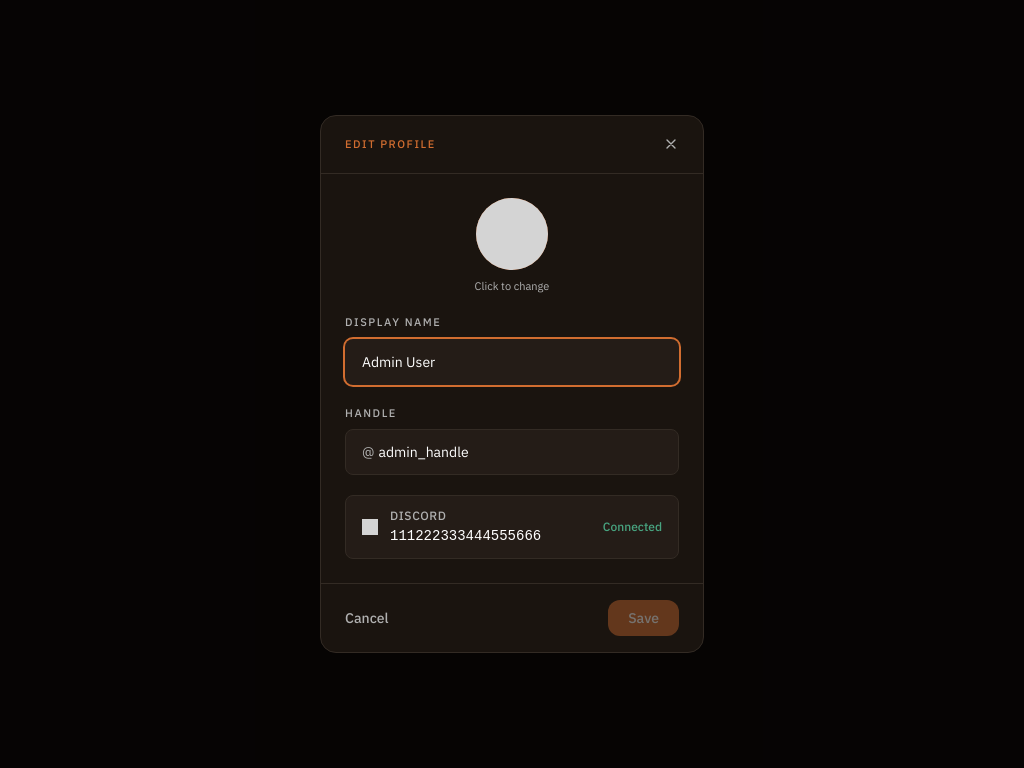
Test: EditProfileModal › Form validation › enables Save when name changes
The image size is (1024, 768).
Replace the text in the field showing "Admin User" below "Display Name" with "New Name" at (512, 362), box [345,338,679,384]
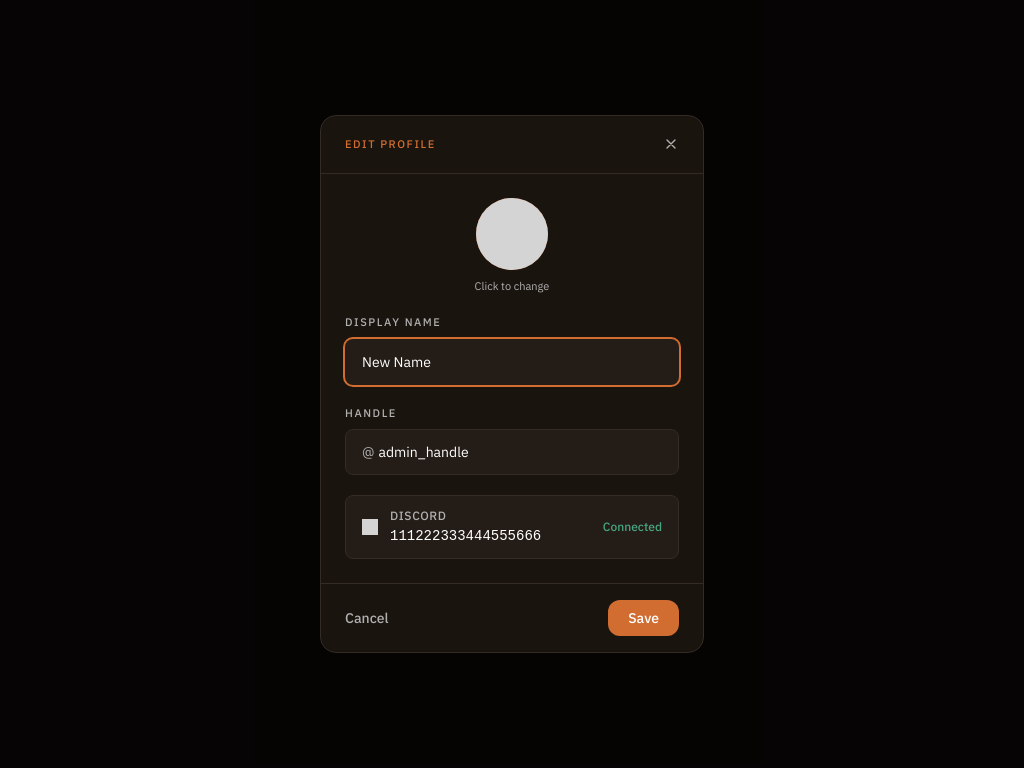
Check: the button "Save" is enabled, box [608,600,679,636]
